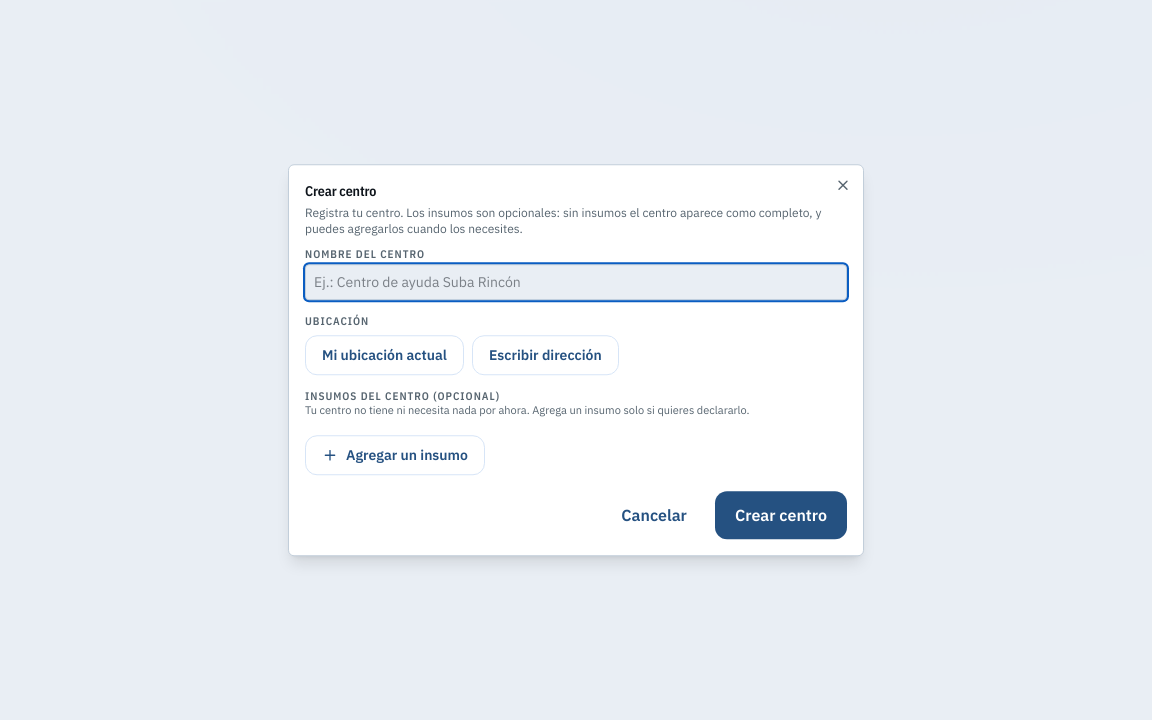
Scenario: CreateCenterDialog › removes a supply row and renumbers the rest
Click the button "Agregar un insumo" at (395, 455), box [305,435,485,475]
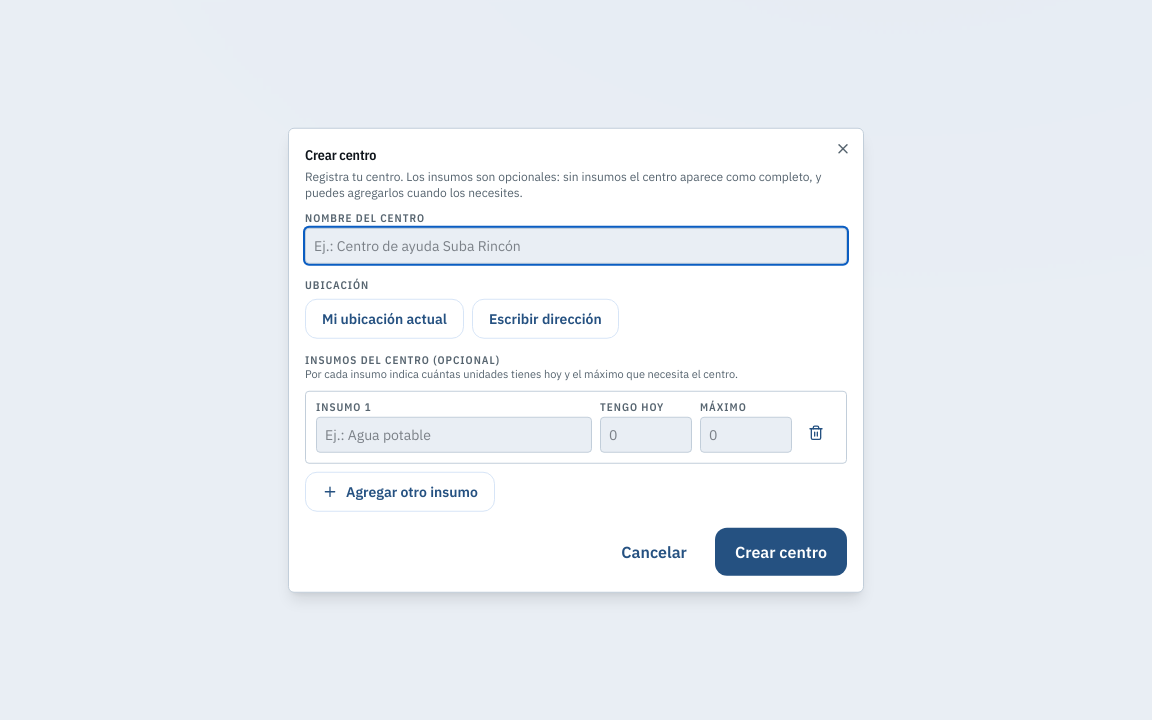
Type "Agua potable" into the field labelled "Insumo 1" at (454, 434), box [316,416,592,452]
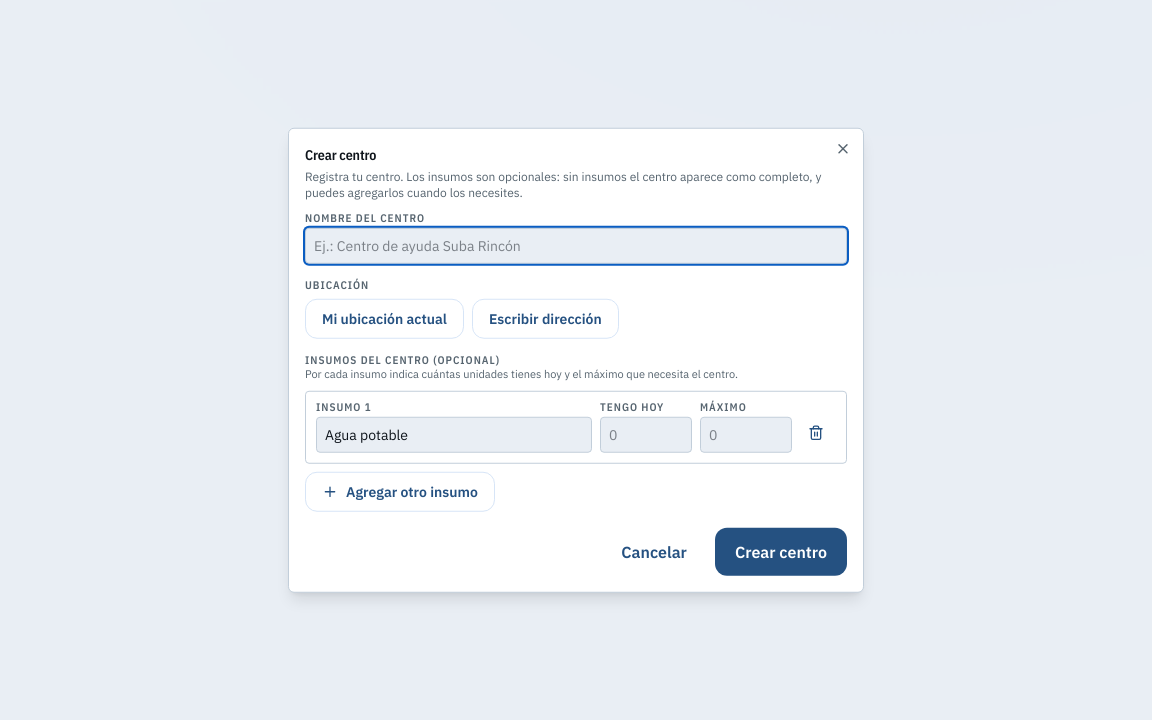
Click the button "Agregar otro insumo" at (400, 491), box [305,471,495,511]
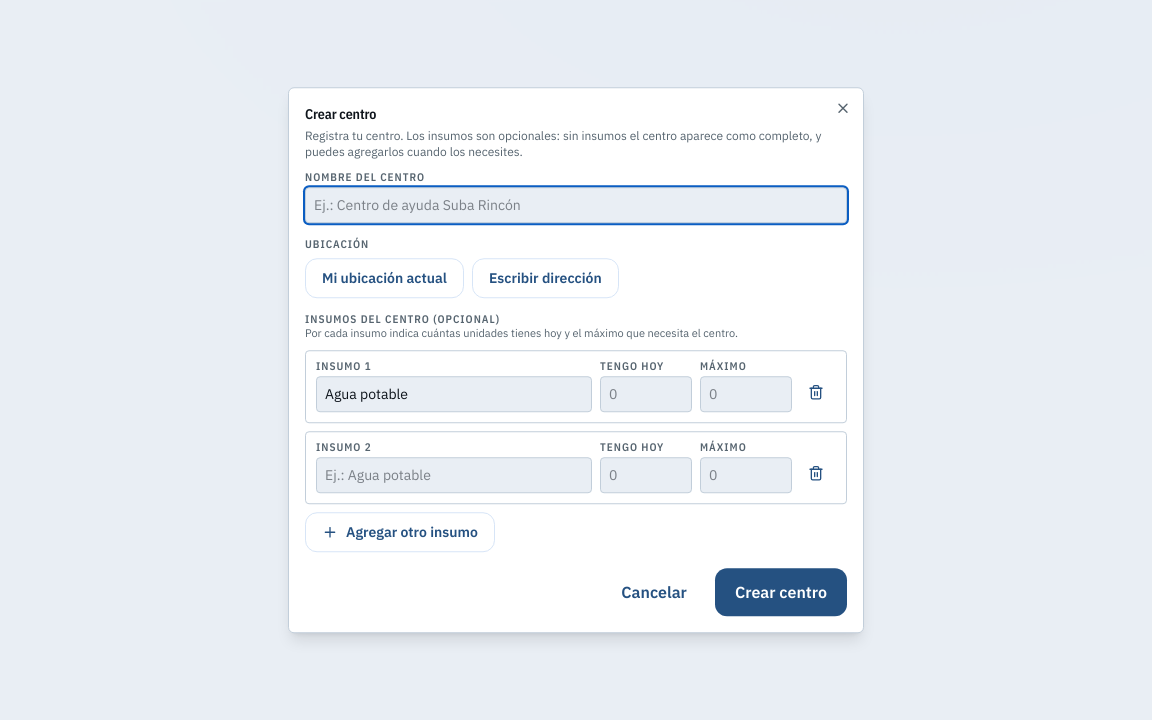
Type "Cobijas" into the field labelled "Insumo 2" at (454, 475), box [316,457,592,493]
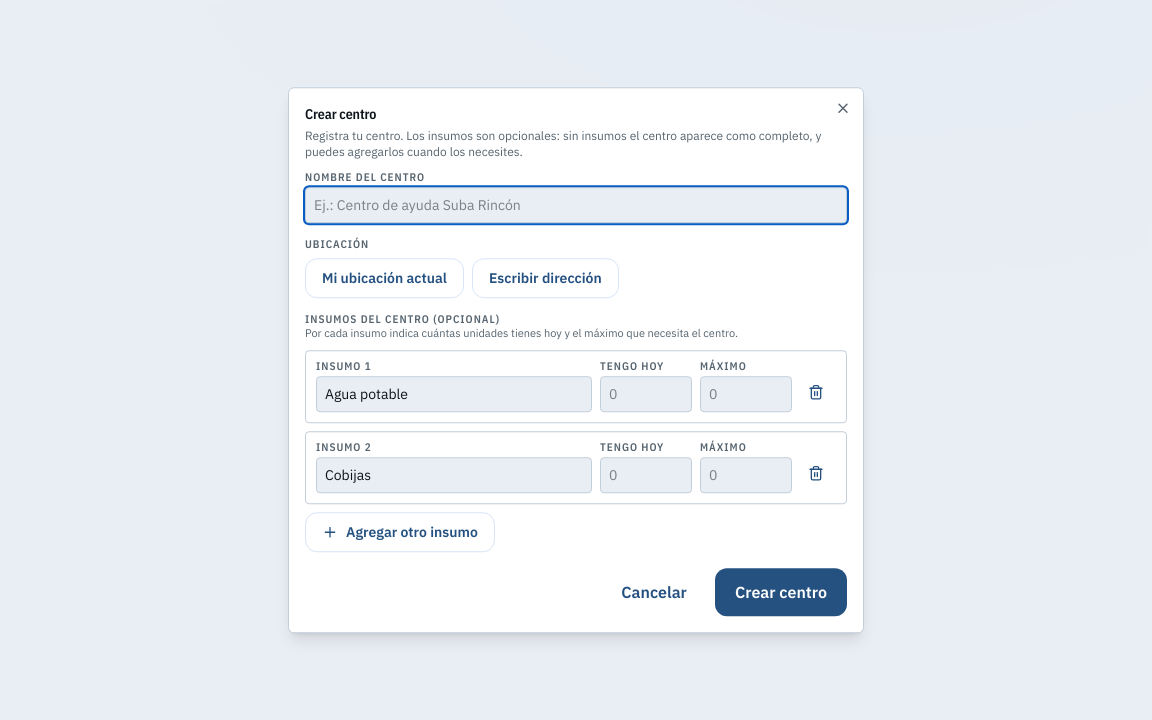
Click the button named "Quitar el insumo 1" at (816, 392), box [796,372,836,412]
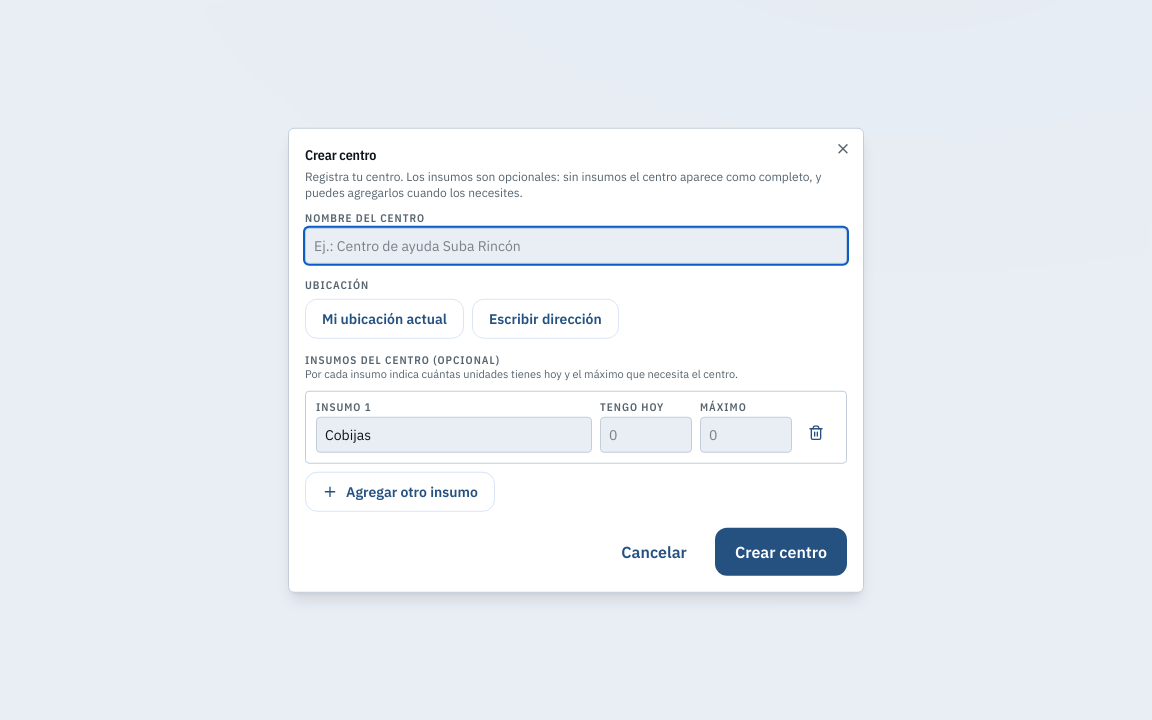
Check: the label labelled "Insumo 2" is gone
